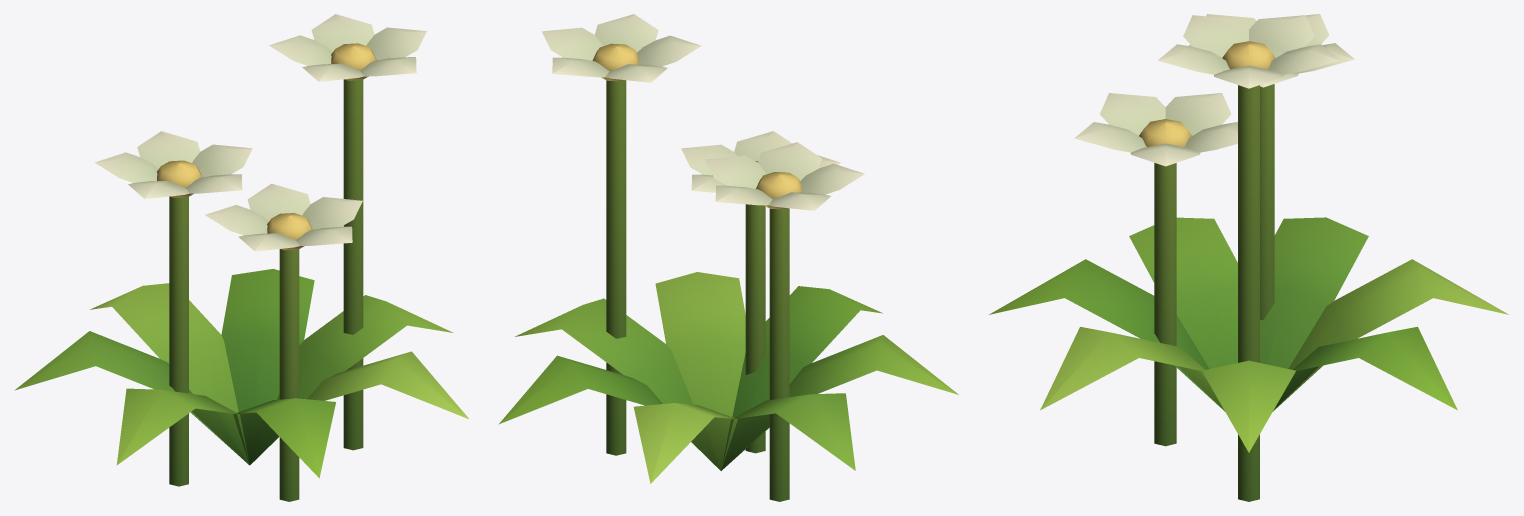
Rendered from Flowers_White_Low.fbx.
3 views of the same model, side by side, from view 1: azimuth 30°, elevation 25°; view 2: azimuth 150°, elevation 25°; view 3: azimuth 270°, elevation 25° (orthographic). The views are drawn at different scales.
Parts seen in each view (by area): view 1: Flowers_White_Low; view 2: Flowers_White_Low; view 3: Flowers_White_Low.
Boxes of the visible parts, x1,y1,x2,y2 form: Flowers_White_Low: (14,14,468,501); Flowers_White_Low: (498,14,958,501); Flowers_White_Low: (989,14,1508,501).
Bounding box in the file's own units: 0.4752 × 0.4682 × 0.4875.
